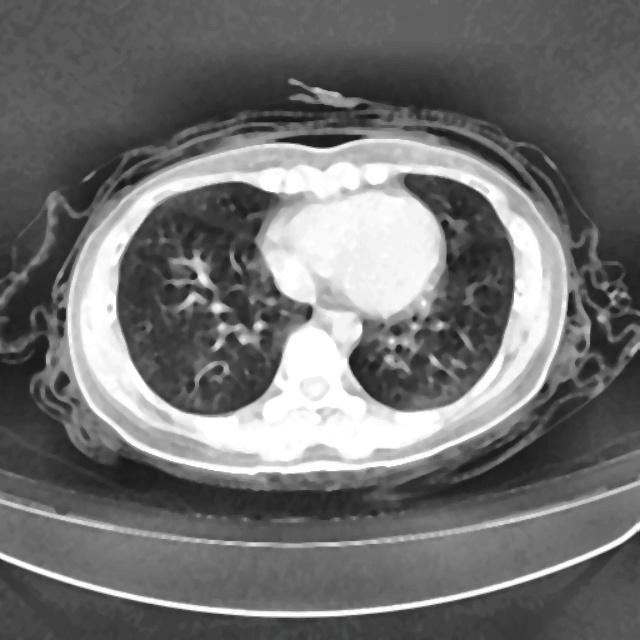covid: (2, 80, 638, 496)
